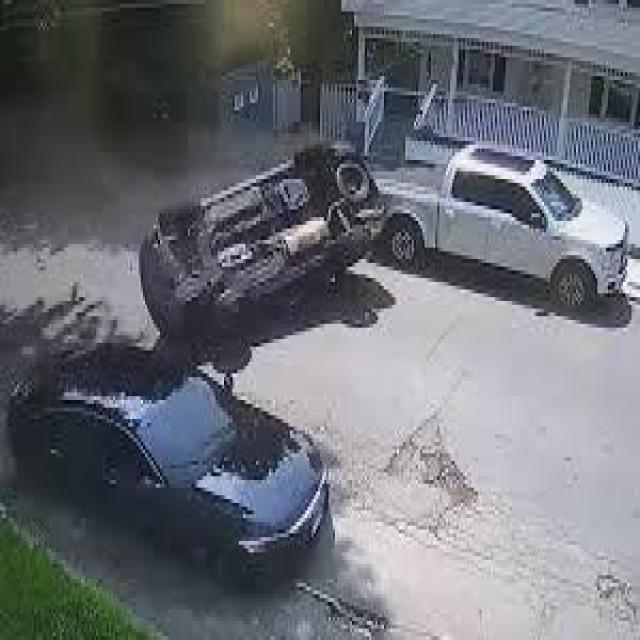severe: (131, 128, 394, 344)
